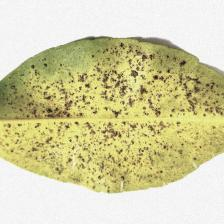canker: (25, 65, 194, 162)
